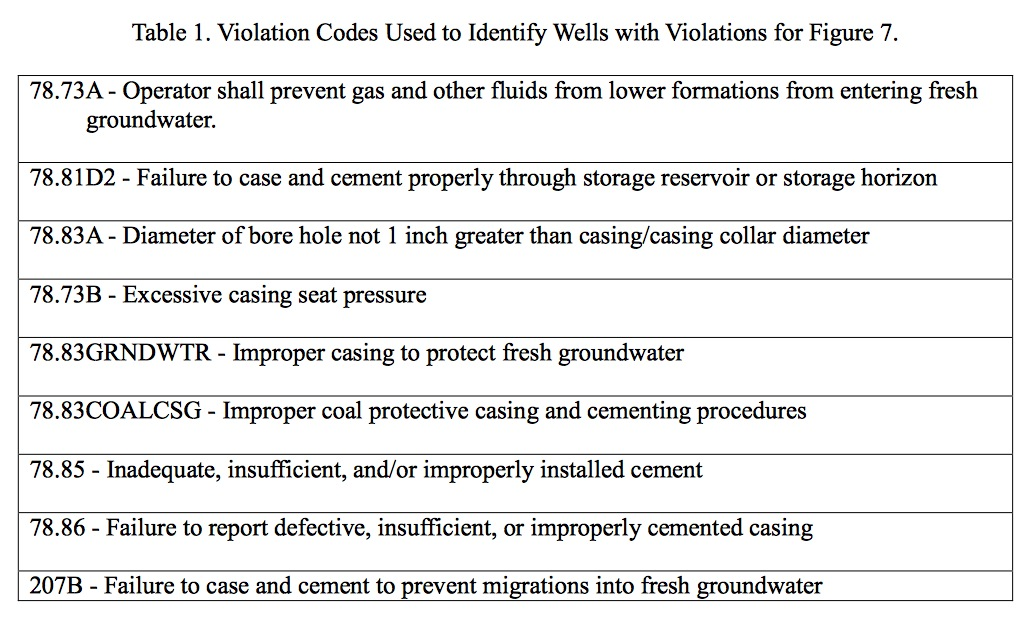fracking table: (15, 14, 1017, 600)
